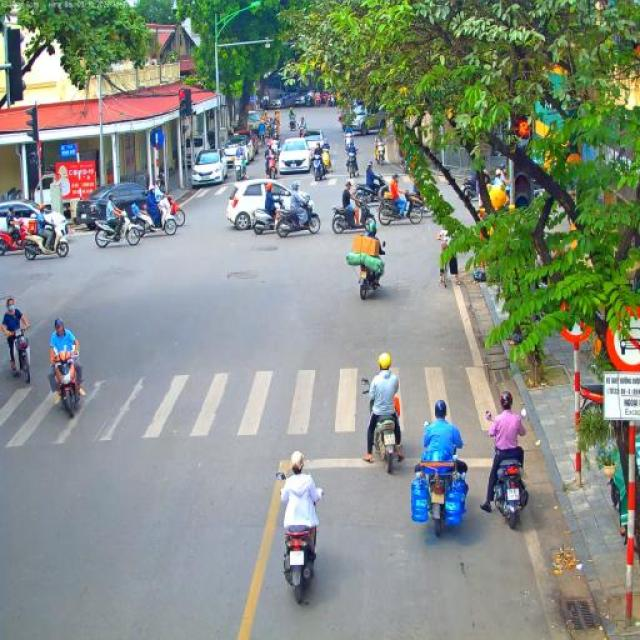car: (228, 178, 300, 231), (76, 181, 149, 230), (0, 199, 71, 241), (191, 148, 228, 187), (278, 136, 310, 176), (346, 104, 386, 136), (221, 136, 250, 170), (235, 130, 255, 161), (304, 129, 325, 156), (270, 92, 295, 109), (248, 111, 262, 135), (292, 89, 308, 108)
motorcycle: (276, 472, 324, 606), (414, 421, 468, 537), (485, 408, 529, 531), (362, 378, 402, 474), (49, 348, 82, 418), (22, 221, 70, 261), (276, 198, 322, 238), (132, 200, 178, 239), (94, 210, 141, 248), (358, 240, 388, 299), (378, 188, 423, 227), (3, 324, 32, 384), (252, 190, 290, 234), (332, 198, 376, 234), (152, 188, 186, 228), (350, 175, 390, 206), (0, 220, 29, 256), (310, 152, 326, 182), (264, 152, 280, 179), (459, 177, 477, 201), (234, 152, 248, 182), (346, 151, 360, 178), (374, 140, 387, 166), (344, 134, 355, 157), (322, 148, 332, 172), (256, 122, 266, 146), (288, 115, 297, 131), (267, 122, 275, 138), (298, 127, 307, 139)
